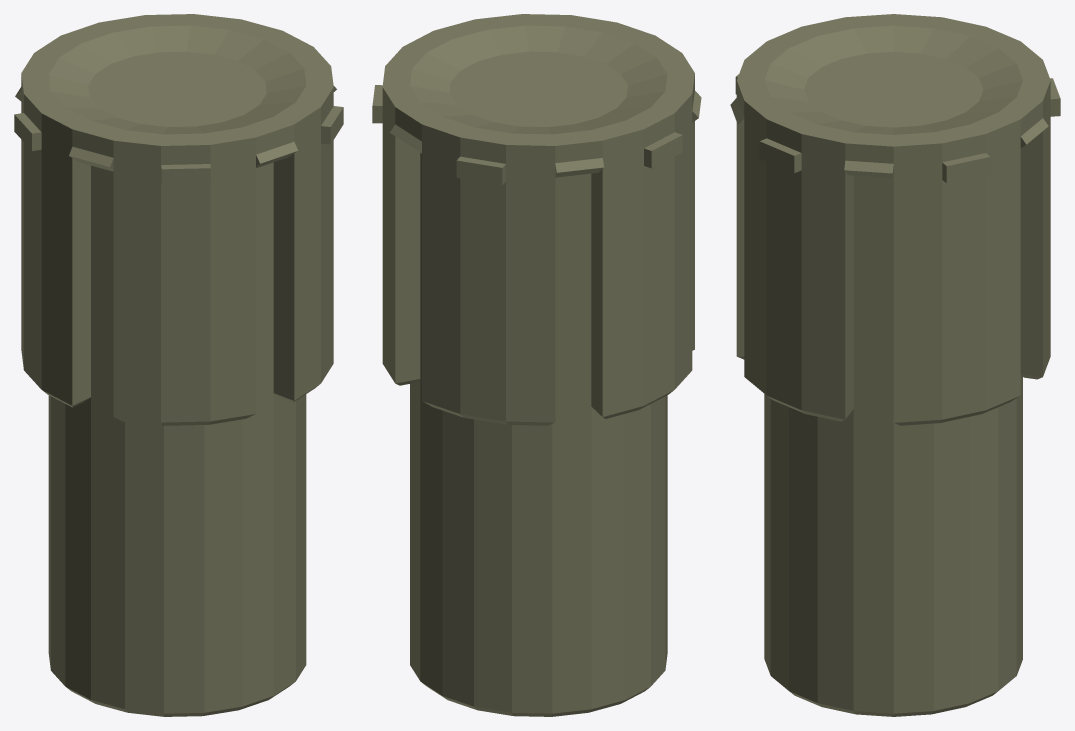
The picture shows the model from 3 angles, left to right: view 1: azimuth 30°, elevation 25°; view 2: azimuth 150°, elevation 25°; view 3: azimuth 270°, elevation 25°; orthographic projection.
Visible parts, largest first — view 1: pCylinder1; view 2: pCylinder1; view 3: pCylinder1.
Boxes of the visible parts, x1,y1,x2,y2 form: pCylinder1: (14, 14, 343, 716); pCylinder1: (372, 14, 701, 716); pCylinder1: (730, 14, 1060, 716).
Bounding box in the file's own units: 2.55 × 4.99 × 2.55.
